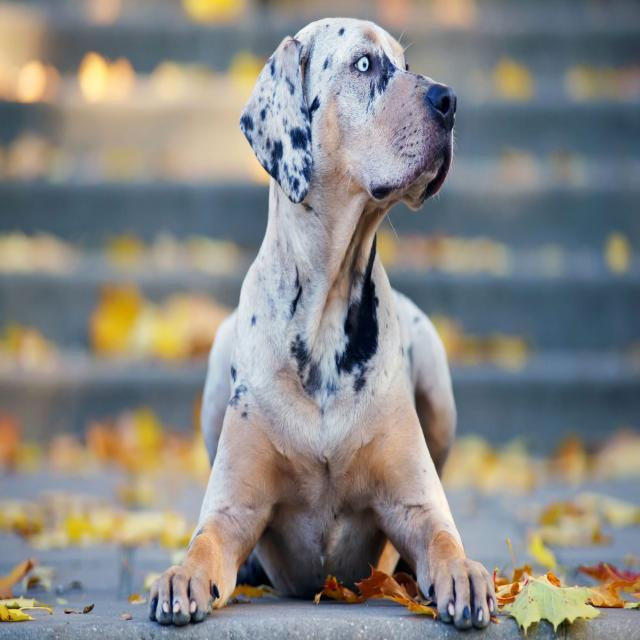dog: (149, 18, 497, 628)
